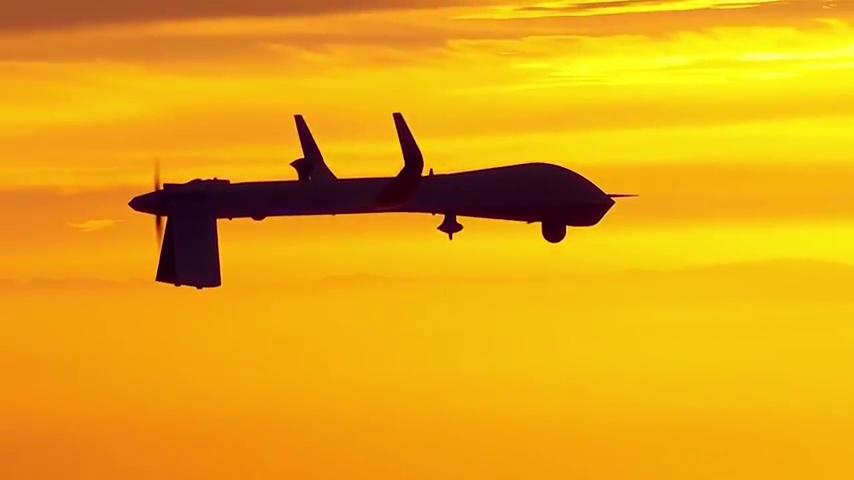military drone: (127, 112, 639, 289)
